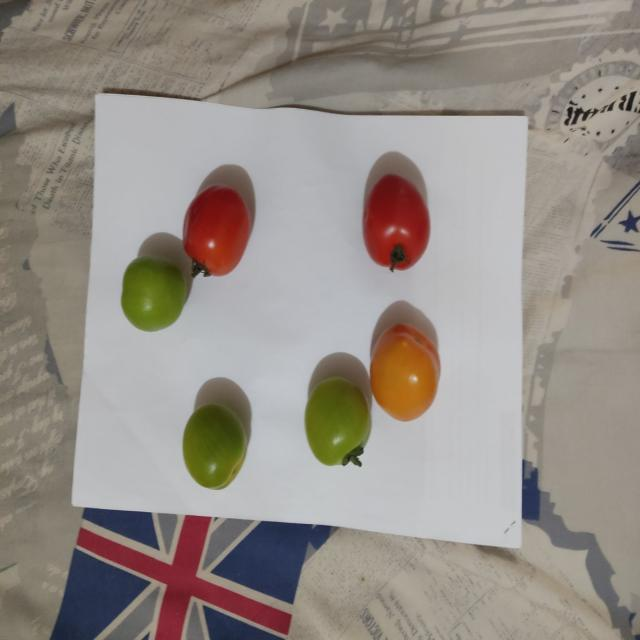kirmizi: (170, 174, 272, 292), (354, 158, 446, 282)
